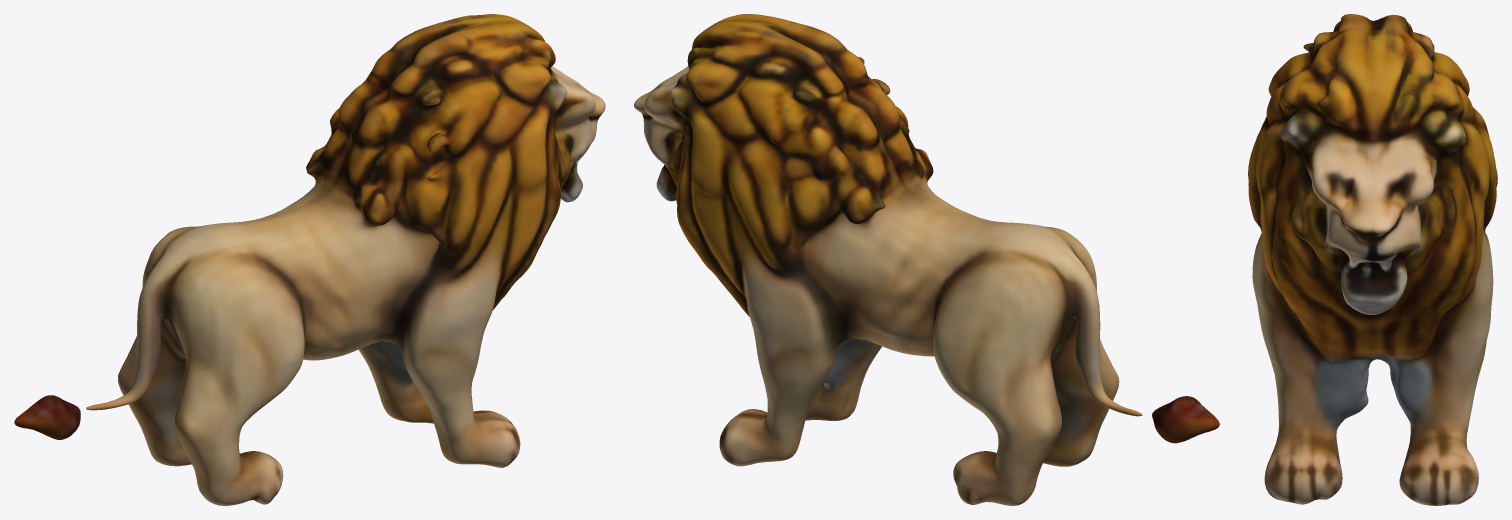
Rendered from lion.glb.
3 views of the same model, side by side, from view 1: azimuth 30°, elevation 25°; view 2: azimuth 150°, elevation 25°; view 3: azimuth 270°, elevation 25° (orthographic). The views are drawn at different scales.
Visible parts, largest first — view 1: high_poly; view 2: high_poly; view 3: high_poly.
Part boxes in pixels (x1=…): high_poly: x1=14, y1=14, x2=605, y2=505; high_poly: x1=634, y1=14, x2=1219, y2=505; high_poly: x1=1248, y1=14, x2=1497, y2=505.
Size of the model in its own units: 1 by 0.6753 by 0.3243.
Materials: 1 (1 with a texture image).
